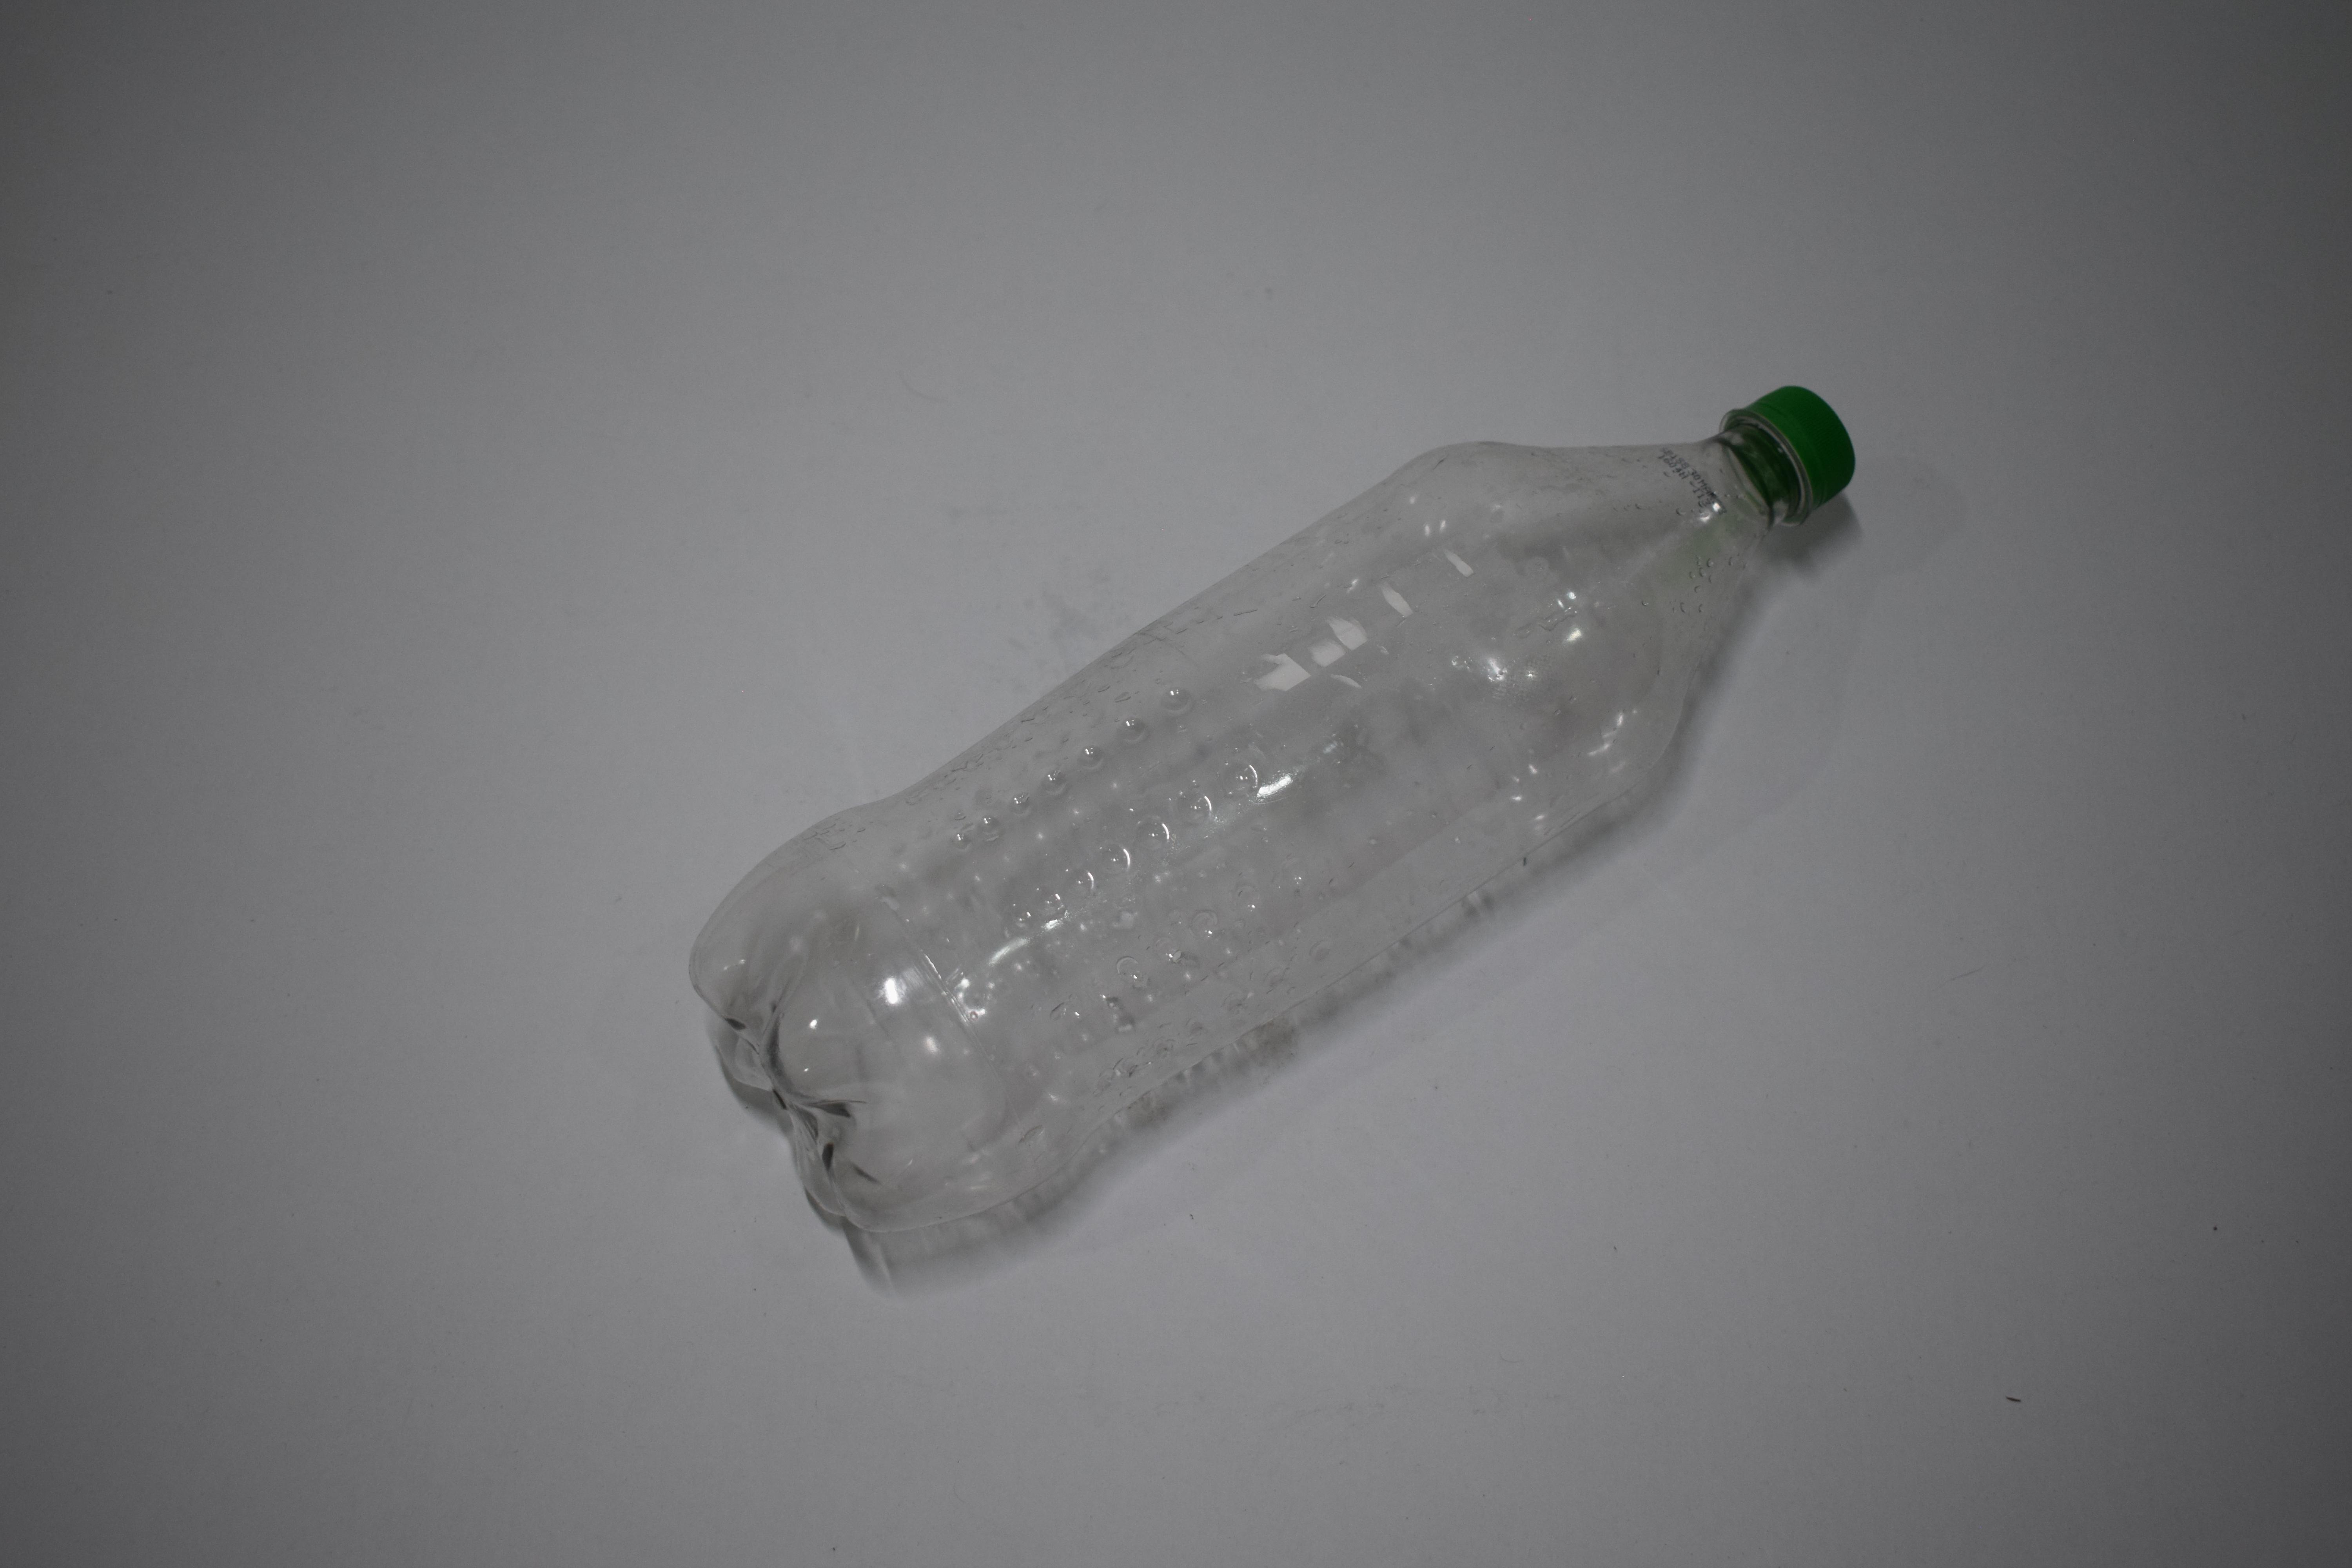bottle: (91, 0, 98, 105)
